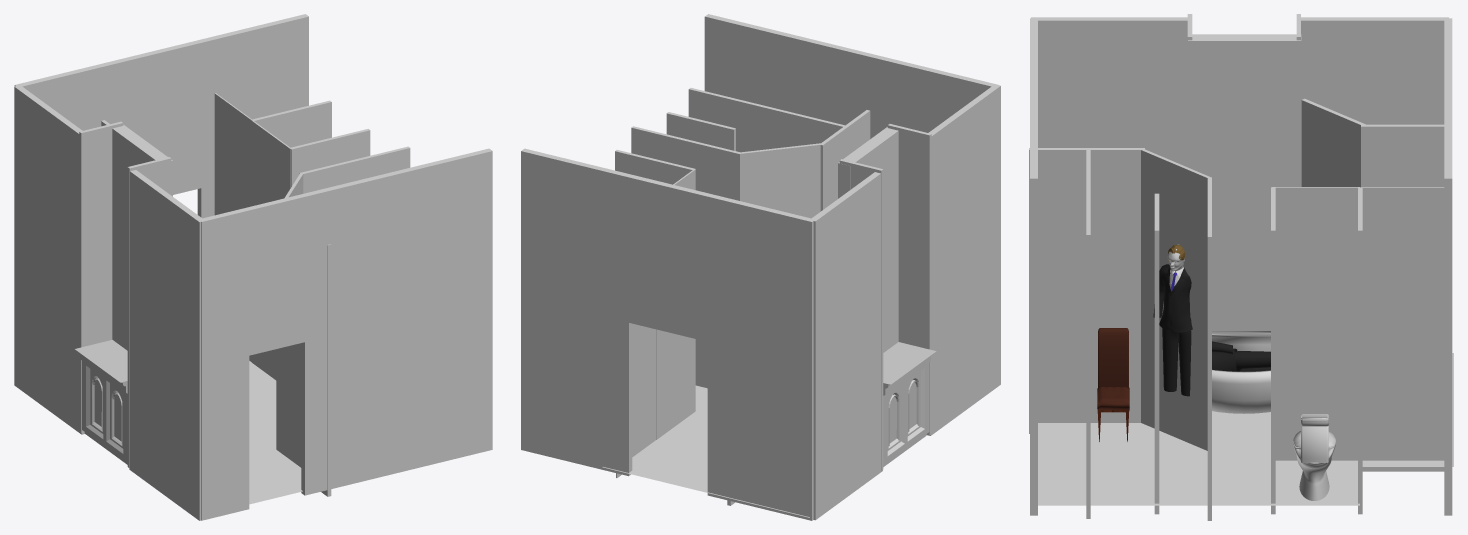
Rendered from bath_output.fbx.
3 renders of one model, left to right at view 1: azimuth 30°, elevation 25°; view 2: azimuth 150°, elevation 25°; view 3: azimuth 270°, elevation 25°, orthographic. The views are drawn at different scales.
Parts seen in each view (by area): view 1: Cube.005, Cube.716, Cube.732, Cube.929, wardrobe, Plane.104, Cube.723, Cube.731, Cube.726, Cube.728, Cube.730, Cube.727 (+2 smaller); view 2: Cube.732, Cube.716, Cube.005, Cube.928, Cube.012, Cube.733, wardrobe, Cube.723, Cube.730, Plane.104, Cube.728, Cube.726 (+4 smaller); view 3: Cube.716, Cube.723, Cube.731, Cube.726, Plane.104, Cube.728, Cube.733, Cube.724, Cube.725, Cube.732, suitdone.001, Cube.005 (+10 smaller).
Part boxes in pixels (bbox=[...]): Cube.005: bbox=[198, 148, 492, 520]; Cube.716: bbox=[14, 85, 203, 520]; Cube.732: bbox=[14, 14, 308, 218]; Cube.929: bbox=[79, 121, 123, 432]; wardrobe: bbox=[75, 340, 127, 464]; Plane.104: bbox=[249, 361, 302, 504]; Cube.723: bbox=[112, 124, 172, 350]; Cube.731: bbox=[276, 244, 331, 496]; Cube.726: bbox=[214, 93, 252, 361]; Cube.728: bbox=[251, 120, 290, 380]; Cube.730: bbox=[299, 146, 410, 193]; Cube.727: bbox=[252, 100, 331, 147]; Cube.732: bbox=[521, 148, 815, 520]; Cube.716: bbox=[810, 84, 1000, 520]; Cube.005: bbox=[704, 14, 998, 138]; Cube.928: bbox=[887, 124, 931, 435]; Cube.012: bbox=[688, 88, 846, 152]; Cube.733: bbox=[740, 143, 822, 218]; wardrobe: bbox=[883, 342, 936, 466]; Cube.723: bbox=[838, 127, 898, 352]; Cube.730: bbox=[631, 126, 741, 388]; Plane.104: bbox=[602, 385, 809, 517]; Cube.728: bbox=[656, 169, 695, 439]; Cube.726: bbox=[616, 323, 655, 477]; Cube.716: bbox=[1031, 17, 1448, 186]; Cube.723: bbox=[1188, 34, 1301, 330]; Cube.731: bbox=[1029, 148, 1144, 433]; Cube.726: bbox=[1362, 187, 1444, 471]; Plane.104: bbox=[1038, 353, 1453, 505]; Cube.728: bbox=[1272, 187, 1359, 460]; Cube.733: bbox=[1140, 148, 1210, 450]; Cube.724: bbox=[1361, 124, 1444, 187]; Cube.725: bbox=[1301, 98, 1365, 187]; Cube.732: bbox=[1444, 18, 1452, 515]; suitdone.001: bbox=[1153, 244, 1192, 396]; Cube.005: bbox=[1030, 18, 1037, 515].
Bounding box in the file's own units: 295 × 289 × 320.
